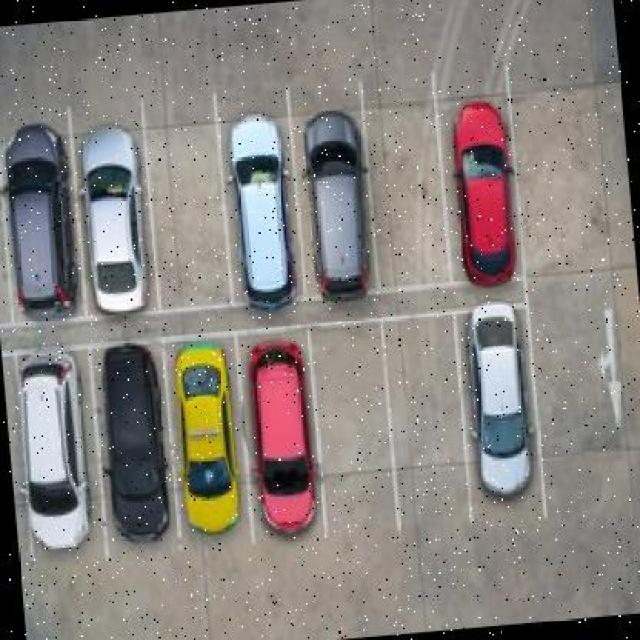Car: (223, 97, 303, 323), (81, 110, 169, 315), (461, 297, 544, 511), (92, 343, 176, 544), (16, 355, 98, 559), (246, 355, 321, 578), (297, 103, 380, 300), (1, 105, 79, 313), (169, 352, 244, 544), (449, 101, 523, 290)
Empty: (386, 322, 477, 518), (367, 87, 453, 290), (314, 330, 394, 541), (146, 110, 226, 306)
